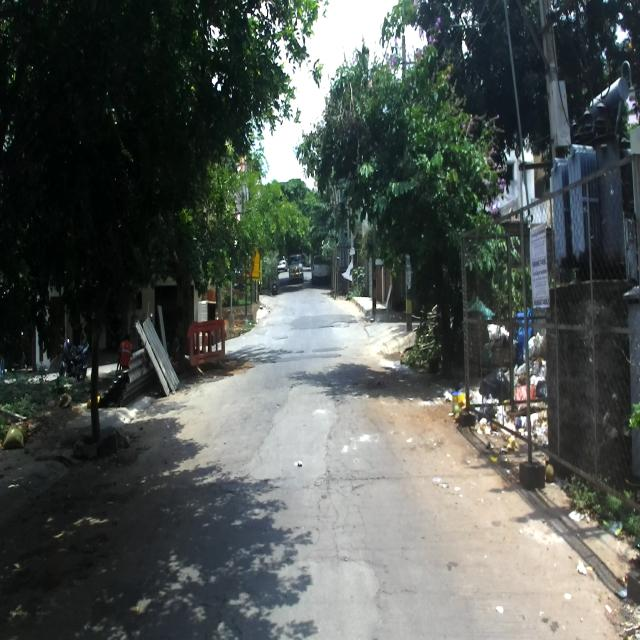barrier ahead at: (186, 320, 228, 368)
tree ahead at: (74, 212, 122, 458)
